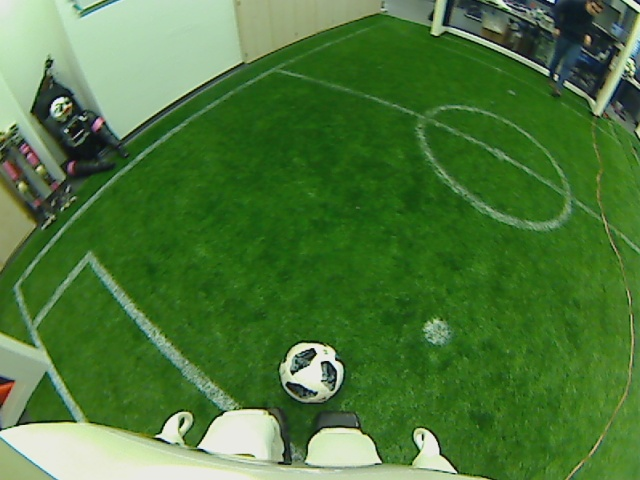ball: (277, 338, 345, 408)
